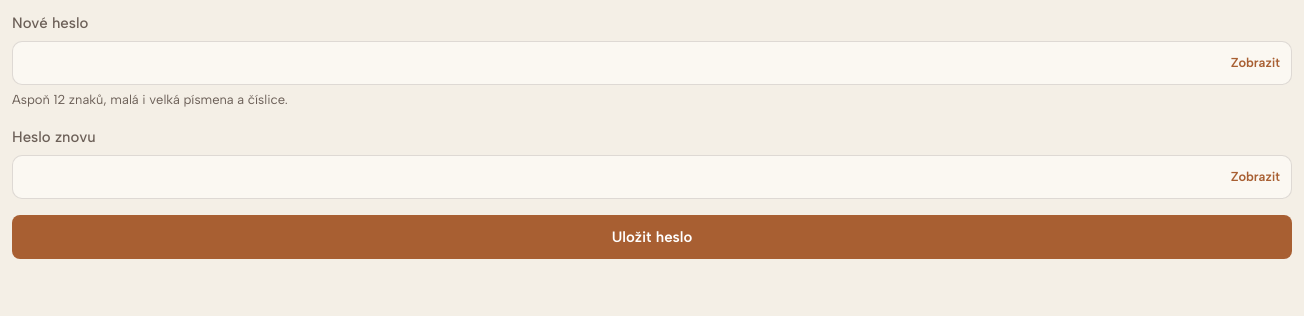
PasswordForm – nastavení hesla › stejné heslo jako dosud: česká chyba
Type "Kozena-Dilna-2026" into the password field labelled "Nové heslo".
click(652, 63); type("Kozena-Dilna-2026")  # box [12, 41, 1292, 85]
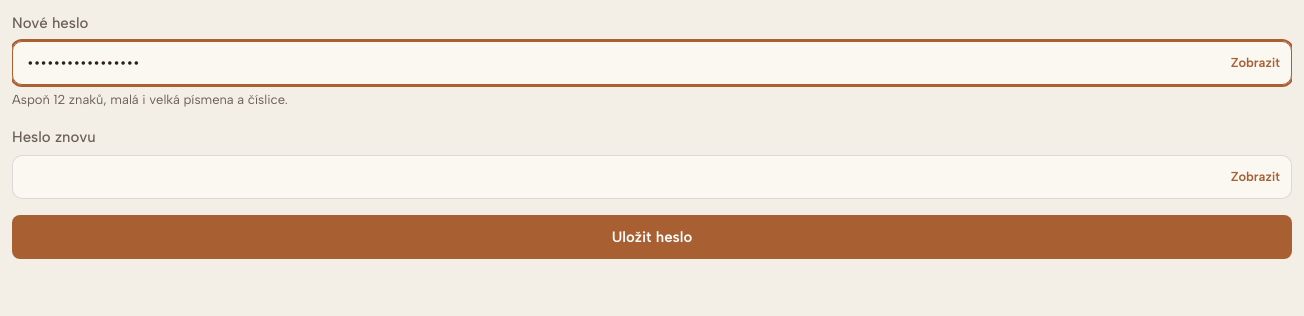
Type "Kozena-Dilna-2026" into the password field labelled "Heslo znovu".
click(652, 177); type("Kozena-Dilna-2026")  # box [12, 155, 1292, 199]
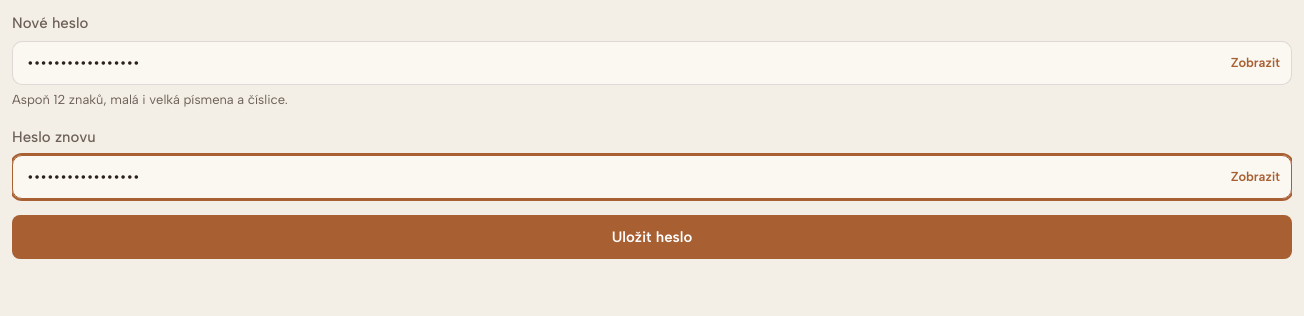
Click the button "Uložit heslo".
click(652, 237)  # box [12, 215, 1292, 259]
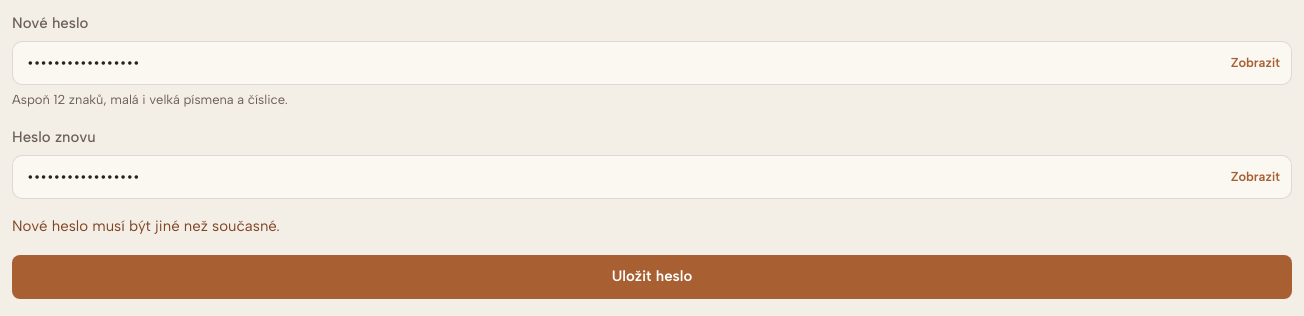
Expected: the message reads "Nové heslo musí být jiné než současné.", [12, 217, 280, 235]
